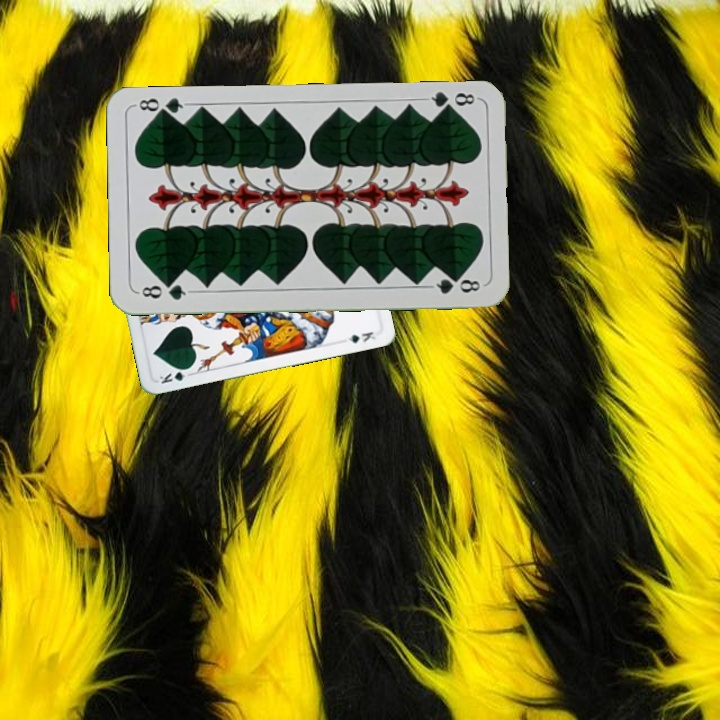G8: (421, 88, 480, 115), (134, 279, 193, 303)
GK: (155, 364, 195, 386)
